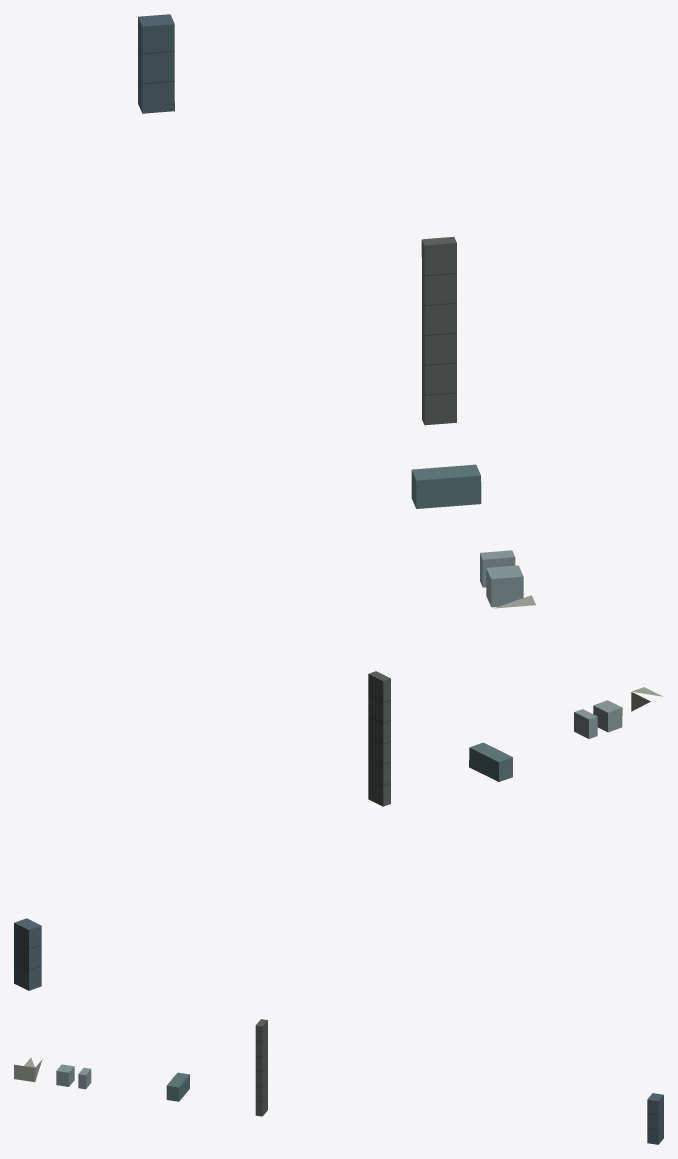
The model's file is terminal-72---21_16.glb.
3 renders of one model, top to bottom at view 1: azimuth 30°, elevation 25°; view 2: azimuth 150°, elevation 25°; view 3: azimuth 270°, elevation 25°, orthographic. The views are drawn at different scales.
Visible parts, largest first — view 1: measured-industrial; view 2: measured-industrial; view 3: measured-industrial.
Boxes of the visible parts, x1,y1,x2,y2 form: measured-industrial: [138, 14, 535, 608]; measured-industrial: [14, 671, 663, 990]; measured-industrial: [14, 1019, 663, 1144].
Size of the model in its own units: 32.02 by 18.5 by 118.
